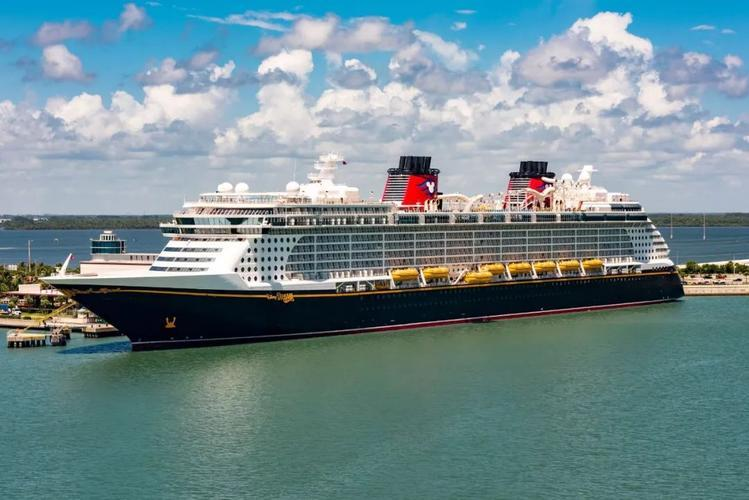Ship: (50, 152, 694, 320)
